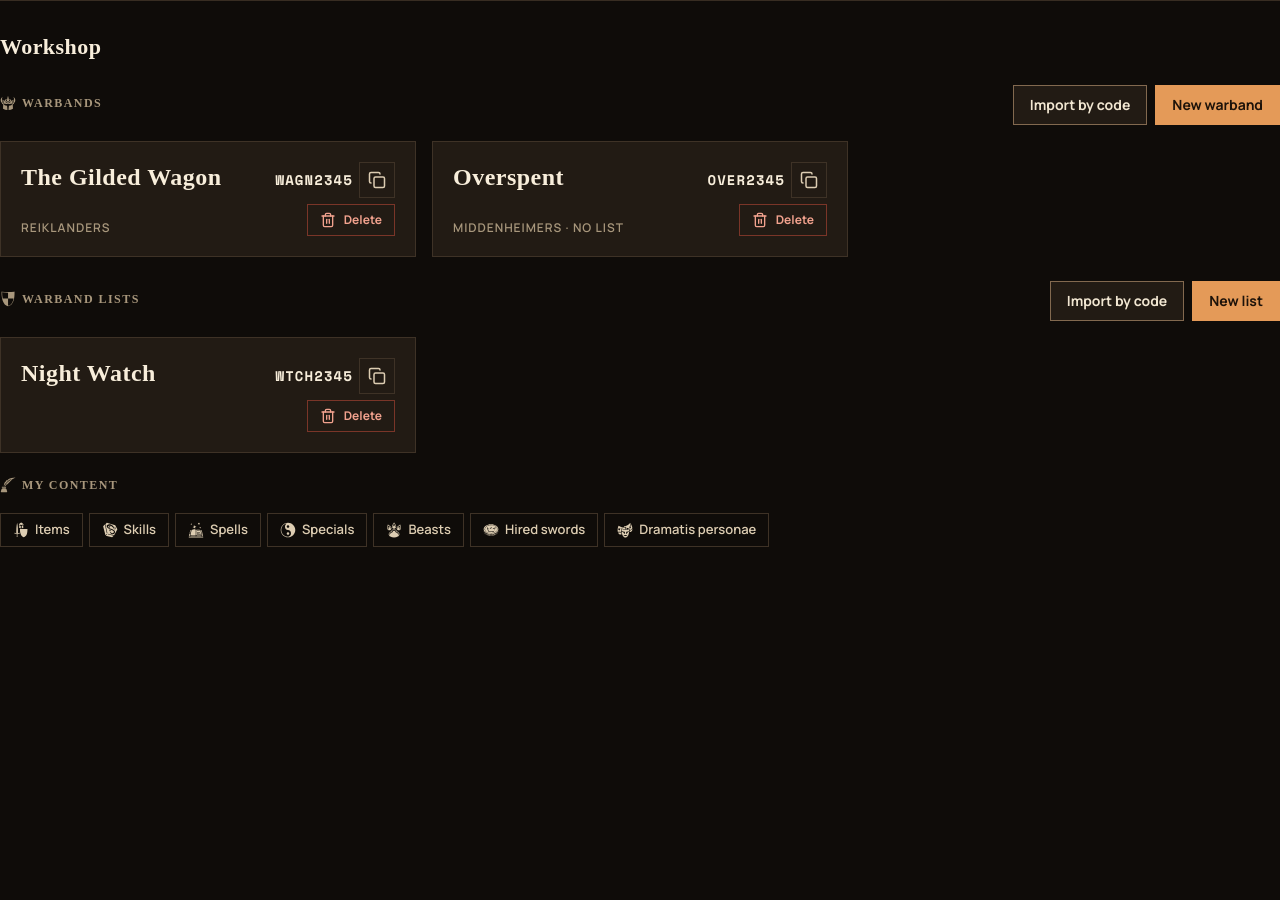
Test: Home's workshop sections › deletes a warband after saying campaigns keep their copy, and reads the workshop again
Later steps or results of the test are not shown.
Expected: the element "The Gilded Wagon" is shown, top-left (0, 140), bottom-right (416, 256)
Click the button with aria-label "Delete The Gilded Wagon". click: click(351, 220)
box: top-left (307, 204), bottom-right (395, 236)
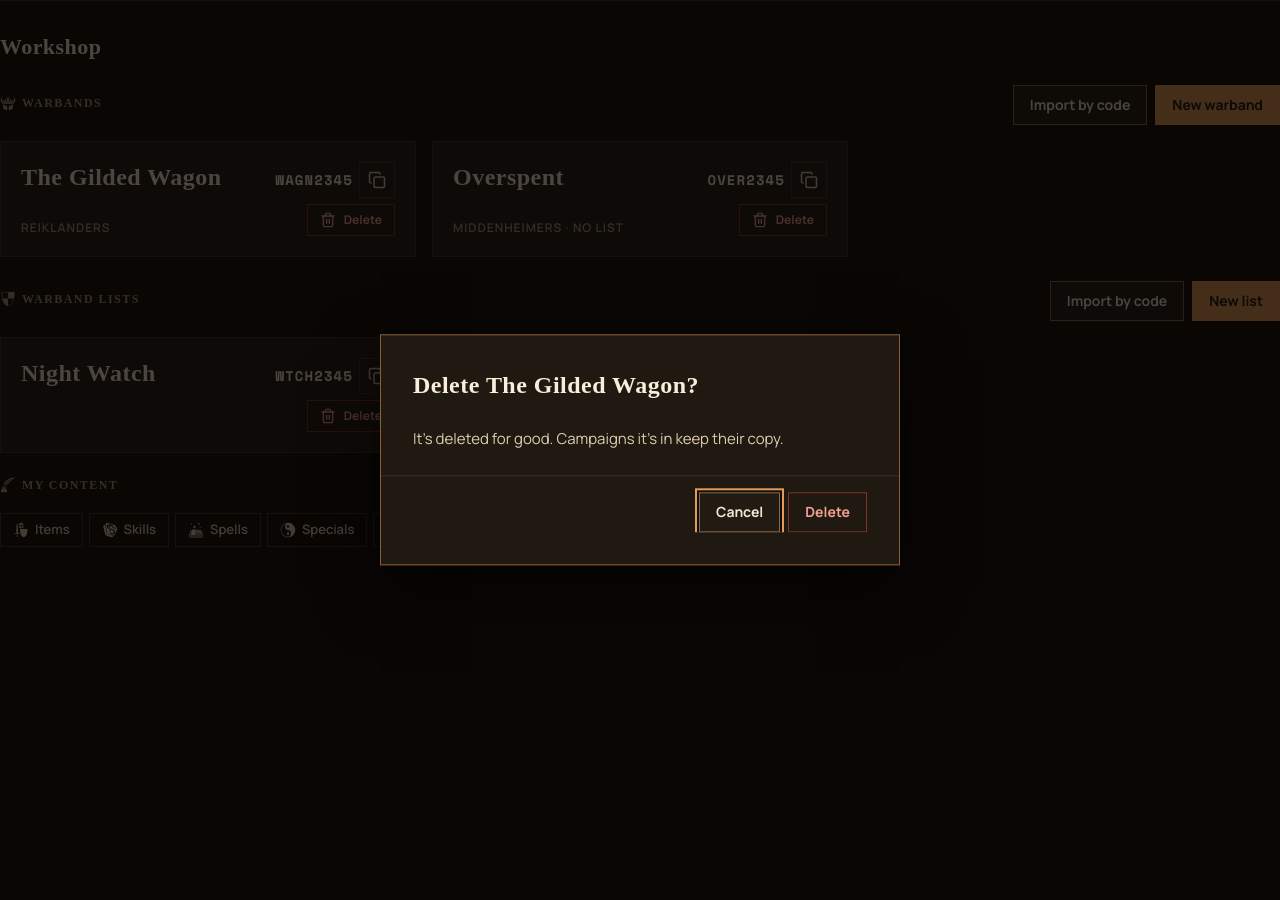
Result: the dialog shows "It's deleted for good. Campaigns it's in keep their copy." at top-left (413, 428), bottom-right (784, 449)
